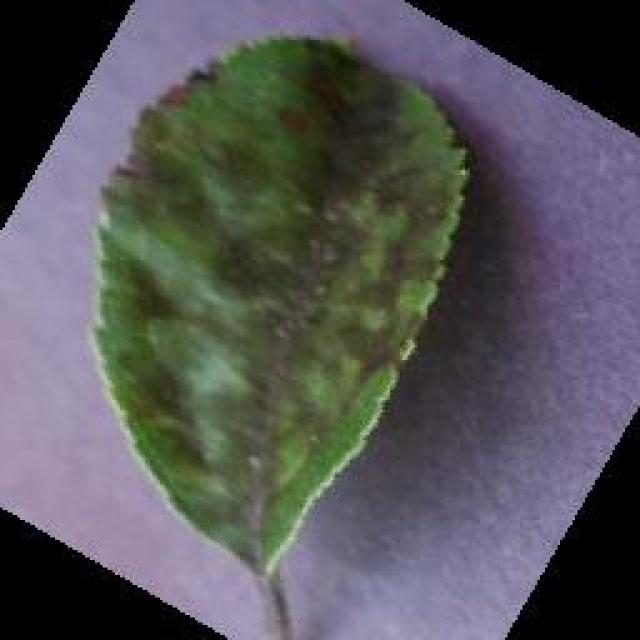apple scab disease: (85, 30, 475, 580)
